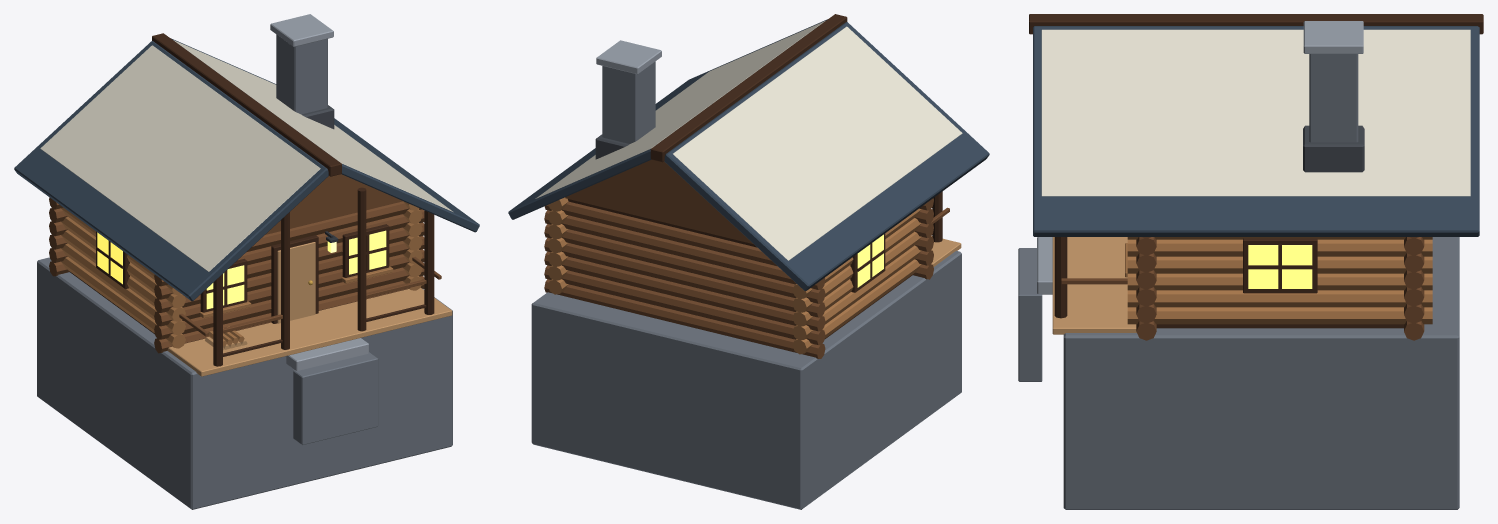
File: mountain_cabin.glb
3 views of the same model, side by side, from view 1: azimuth 30°, elevation 25°; view 2: azimuth 150°, elevation 25°; view 3: azimuth 270°, elevation 25° (orthographic). The views are drawn at different scales.
Visible parts, largest first — view 1: mountain_cabin; view 2: mountain_cabin; view 3: mountain_cabin.
Boxes of the visible parts, x1=… form: mountain_cabin: x1=14, y1=14, x2=479, y2=509; mountain_cabin: x1=508, y1=14, x2=989, y2=509; mountain_cabin: x1=1018, y1=14, x2=1483, y2=509.
Bounding box in the file's own units: 8 × 9.27 × 8.7.
Materials: 1 (1 with a texture image).
